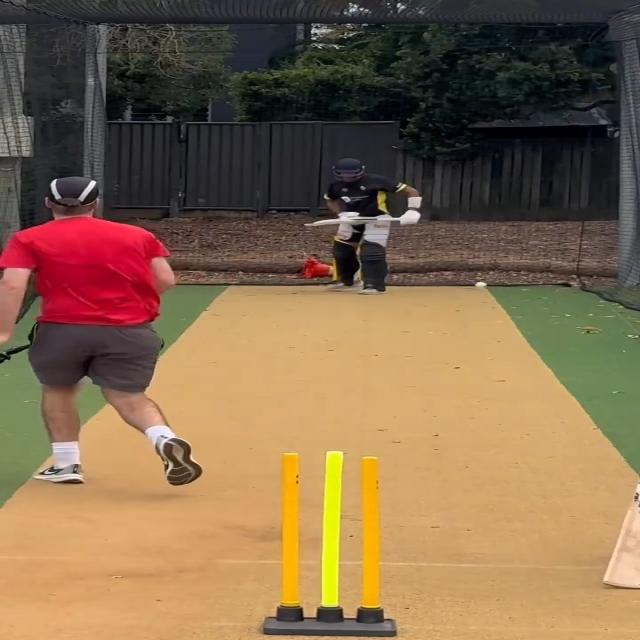ball: (474, 281, 488, 289)
stump: (257, 448, 397, 640)
